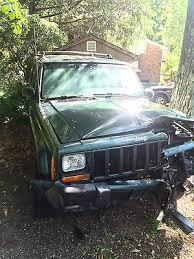Bonnet: (40, 93, 194, 141)
Bumper: (53, 164, 194, 213)
Light: (169, 120, 194, 179)
